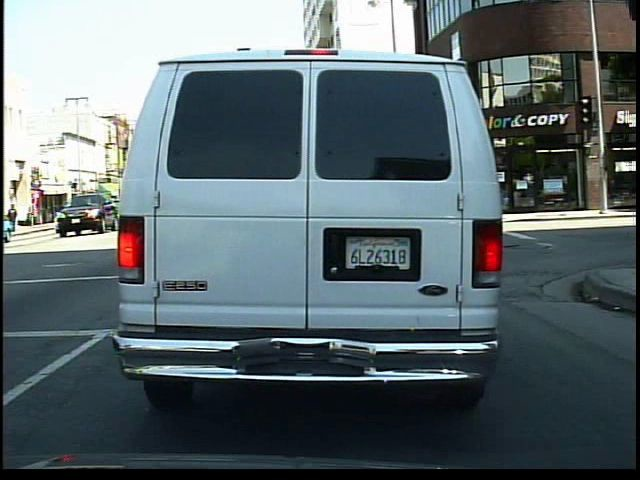person: (6, 202, 22, 234)
